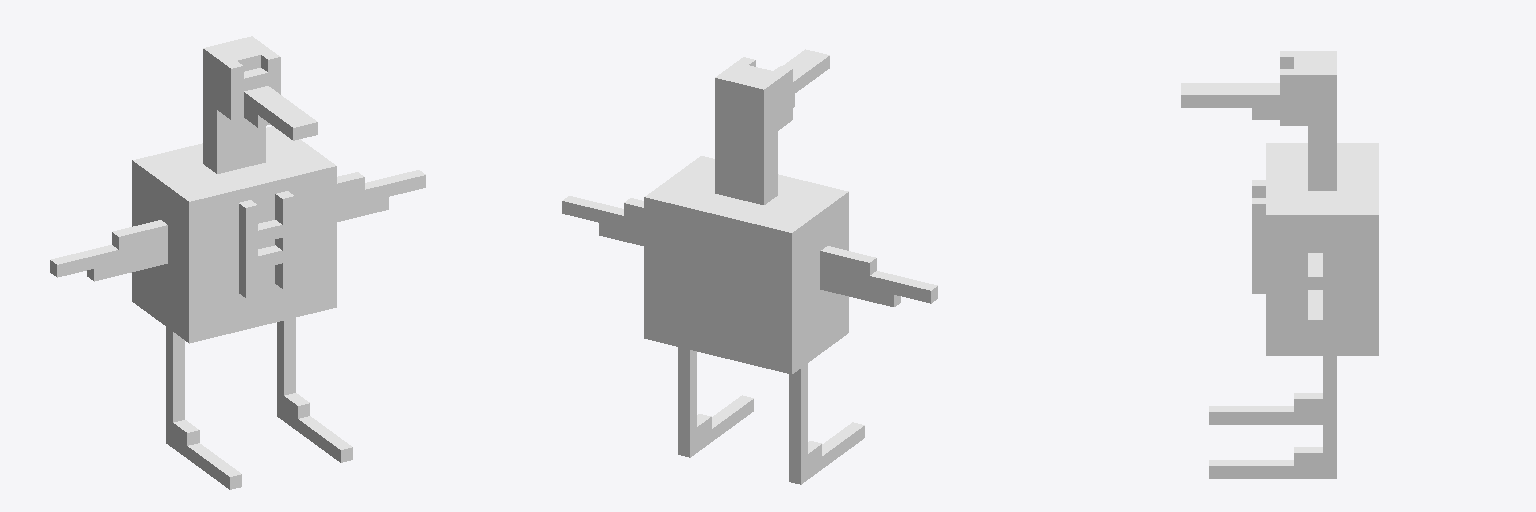
Rendered from DUk.obj.
3 renders of one model, left to right at view 1: azimuth 30°, elevation 25°; view 2: azimuth 150°, elevation 25°; view 3: azimuth 270°, elevation 25°, orthographic.
Parts seen in each view (by area): view 1: object 1; view 2: object 1; view 3: object 1.
Boxes of the visible parts, x1=… form: object 1: x1=50, y1=36, x2=425, y2=489; object 1: x1=562, y1=49, x2=937, y2=484; object 1: x1=1181, y1=51, x2=1378, y2=478.
Size of the model in its own units: 3 by 3 by 1.4.